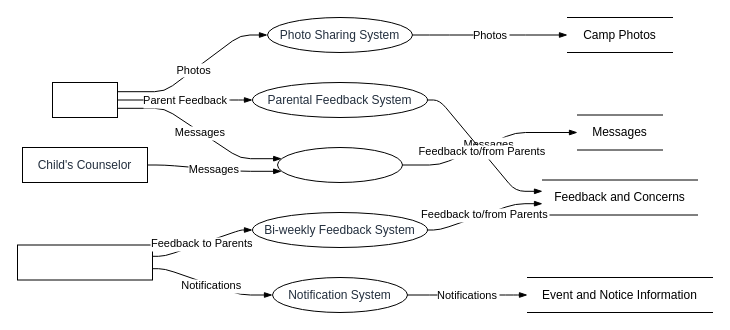
Image size: 730x330. Some labels were removed from this diagram. The box of each missing label's shape, as (x1, y1, x2, y2) in pixels:
Camp Administrator: (16, 244, 152, 280)
Message System: (276, 146, 402, 182)
Parent: (52, 82, 118, 118)
